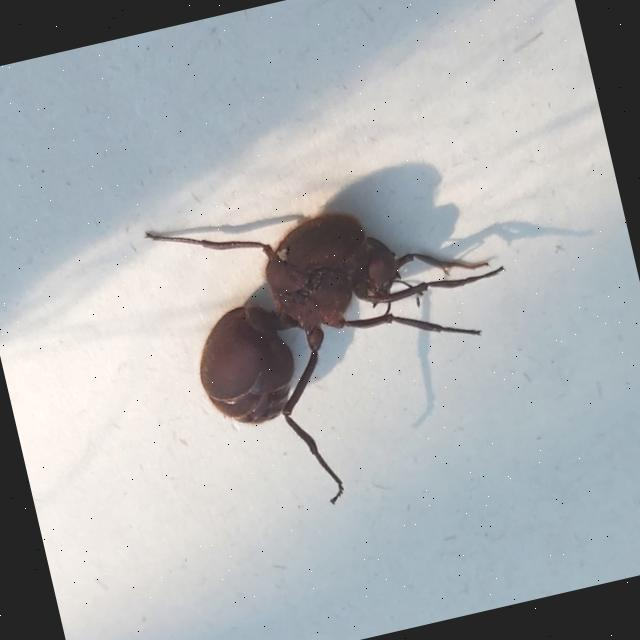Dead-Female-Dealate: (142, 153, 548, 532)
